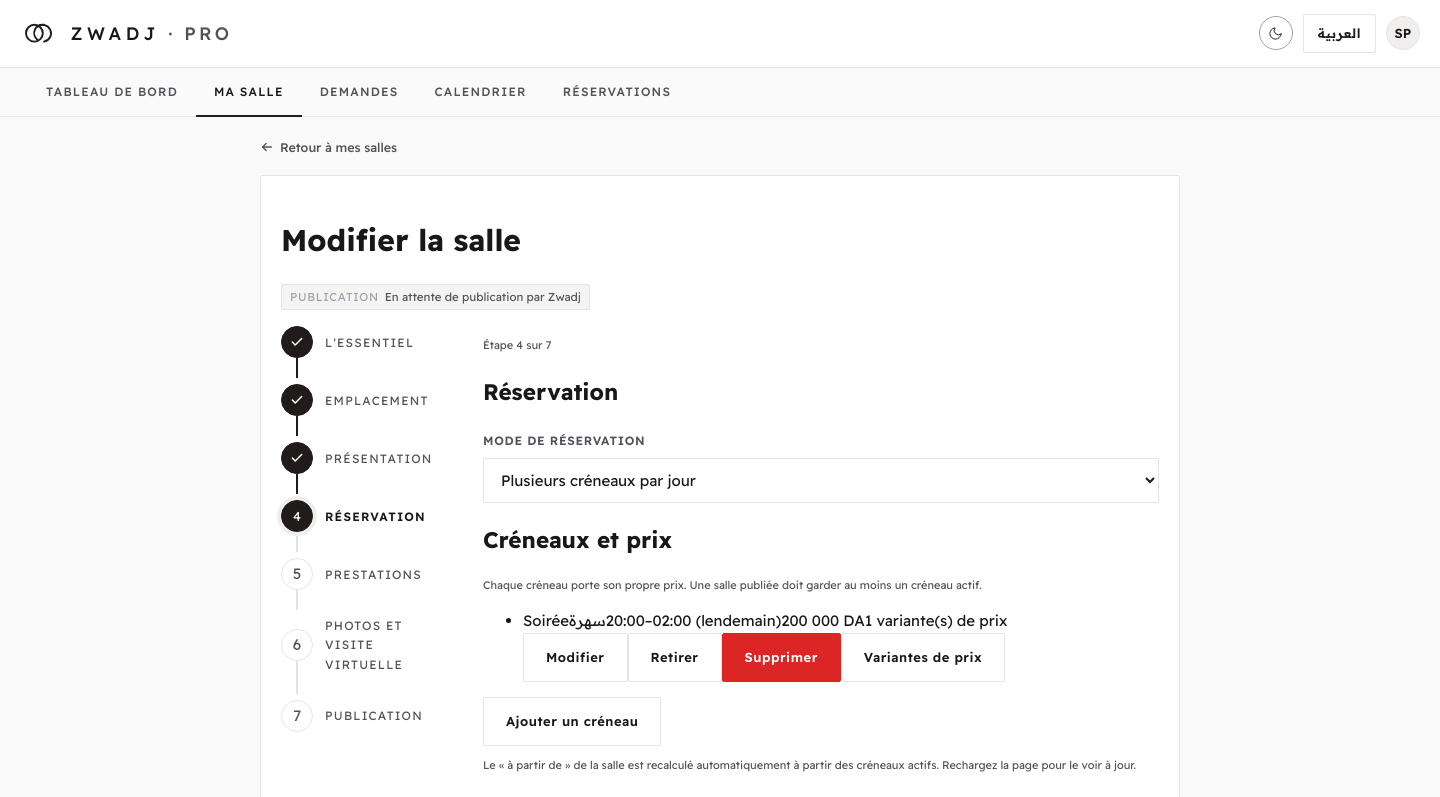
Test: Variantes de prix — le type n'est pas modifiable (B2) › le formulaire d'édition n'offre pas le type et l'explique
Expected: the heading "Réservation" is shown, [483,376,618,406]
Click the button "Variantes de prix" at {"x": 923, "y": 658}, box [841,633,1005,682]
(page scrolled)
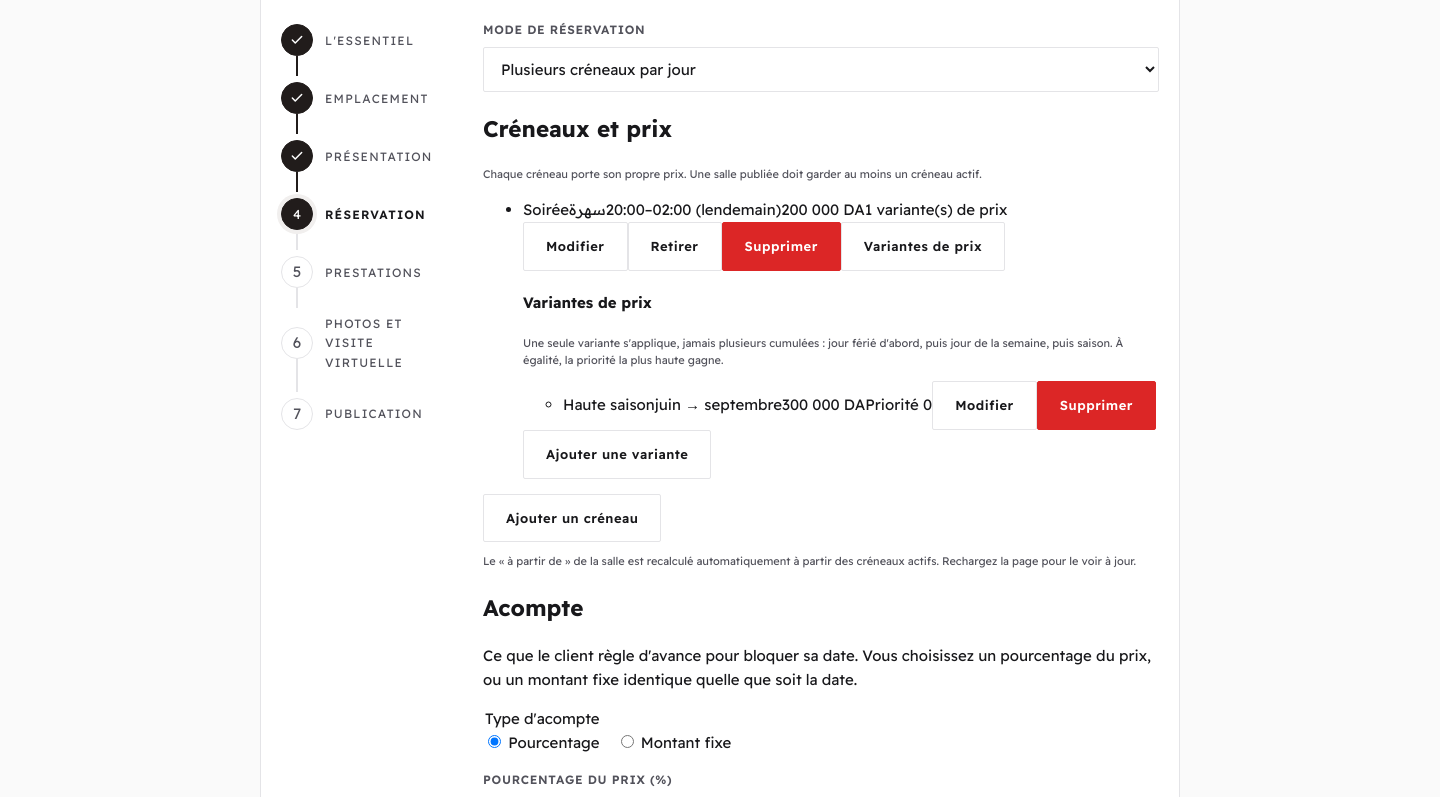
Click the button "Modifier" in the row of "Haute saison" at {"x": 984, "y": 405}, box [932,381,1037,430]
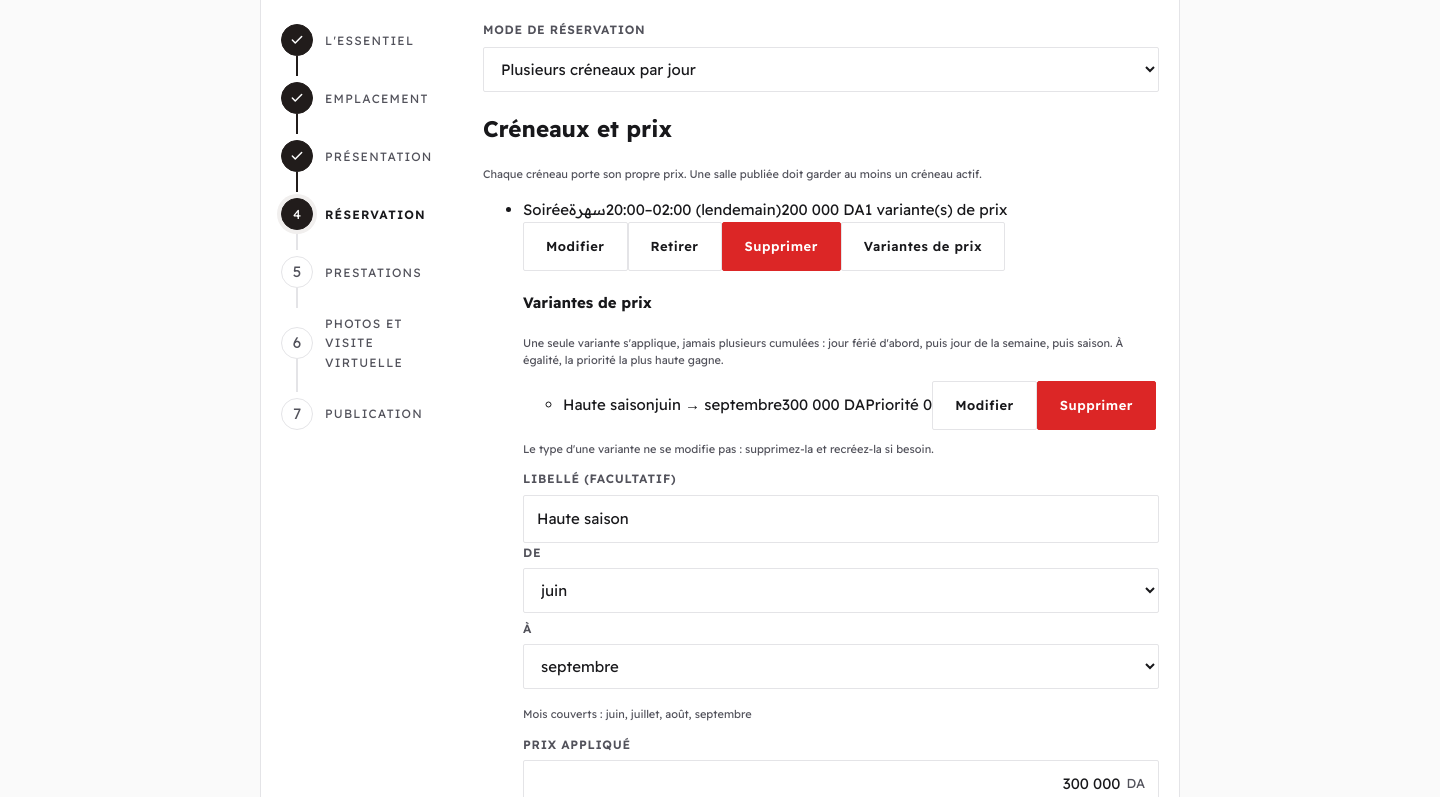
Expected: the text "ne se modifie pas" is shown, [523,442,934,456]
